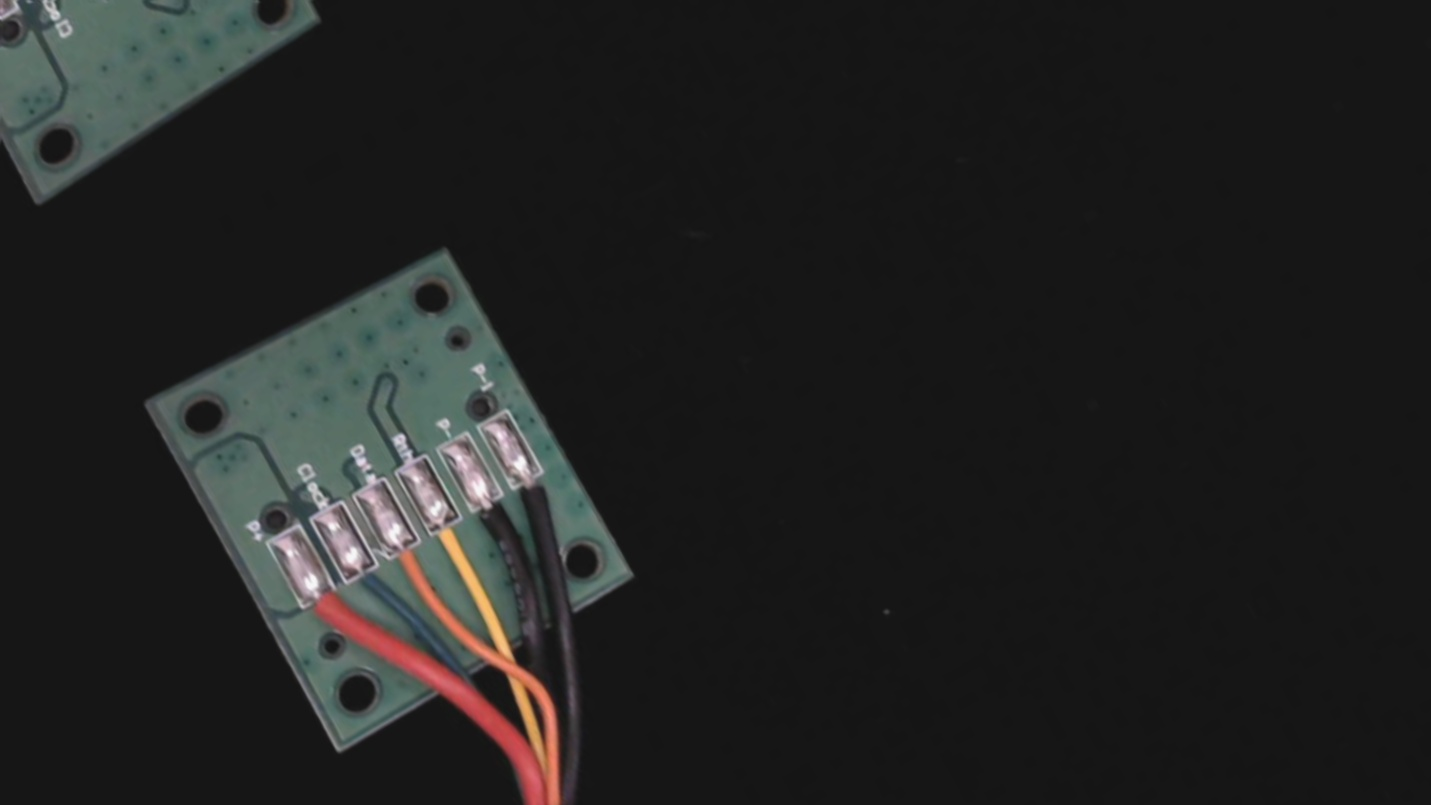Black: (452, 471, 539, 568)
Black1: (496, 450, 577, 539)
Green: (325, 536, 410, 629)
Orange: (369, 519, 453, 613)
Red: (285, 566, 369, 659)
Yellow: (412, 495, 500, 593)
